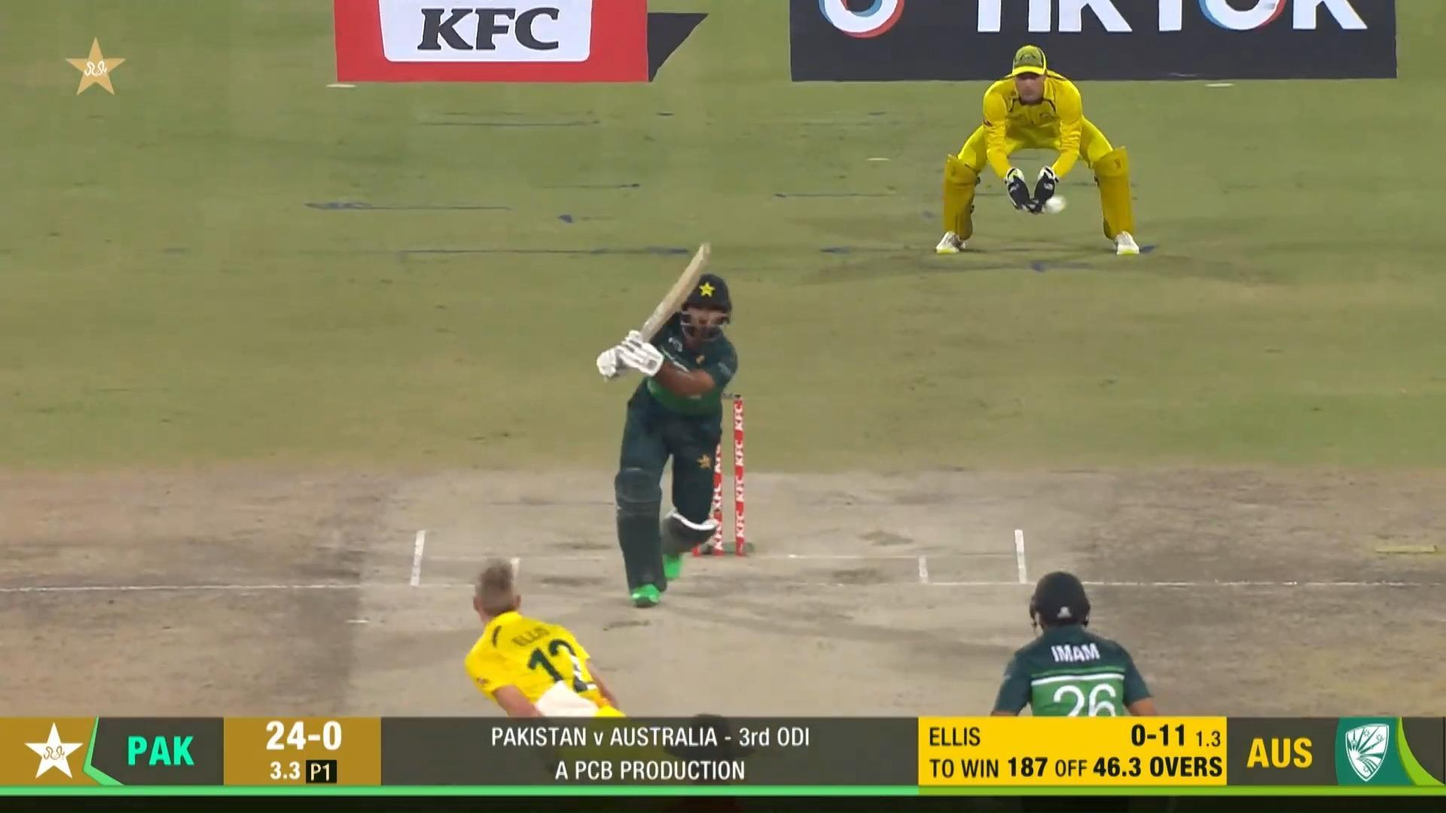BM 1: (598, 237, 742, 611)
BO: (462, 559, 672, 786)
